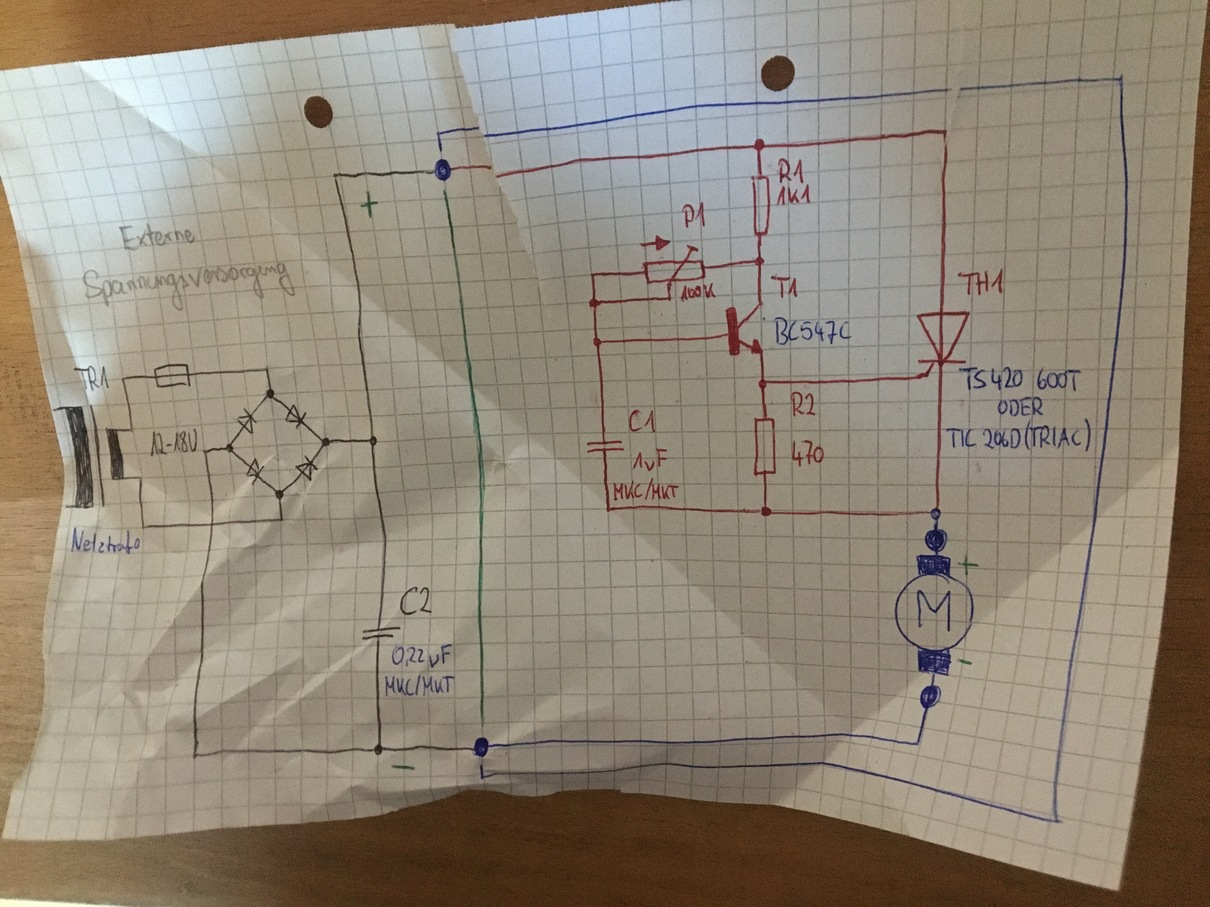capacitor.unpolarized: (584, 438, 627, 459), (360, 622, 402, 643)
crossover: (207, 519, 218, 530)
diode: (294, 453, 320, 482), (235, 406, 259, 435), (284, 403, 309, 430), (245, 457, 265, 486)
fuse: (153, 362, 193, 389)
junction: (927, 503, 945, 522), (936, 125, 952, 146), (372, 741, 390, 757), (751, 253, 767, 269), (752, 136, 767, 153), (759, 501, 773, 519), (588, 296, 602, 311), (757, 376, 770, 392), (591, 335, 604, 349), (189, 748, 202, 762), (367, 434, 379, 448), (663, 292, 677, 304), (320, 436, 332, 448), (265, 387, 276, 400), (224, 442, 235, 454), (274, 488, 285, 500), (604, 503, 615, 515), (912, 737, 923, 748), (330, 170, 340, 182), (136, 473, 145, 483), (589, 269, 598, 279), (200, 447, 209, 456), (262, 365, 271, 374), (127, 425, 136, 433), (119, 374, 127, 383), (139, 523, 147, 532), (277, 516, 285, 523)
motor: (892, 553, 976, 678)
resistor: (752, 415, 779, 477), (749, 173, 773, 239)
resistor.adjustable: (640, 243, 707, 288)
terminal: (62, 502, 70, 513), (50, 406, 57, 414)
text: (81, 260, 297, 312), (944, 416, 1093, 454), (959, 366, 1082, 393), (773, 314, 854, 347), (117, 219, 198, 252), (70, 525, 142, 556), (383, 672, 455, 699), (390, 641, 453, 670), (611, 476, 680, 502), (149, 426, 199, 459), (956, 267, 1006, 298), (995, 394, 1046, 419), (398, 584, 435, 617), (790, 437, 827, 469), (72, 364, 112, 393), (631, 446, 669, 473), (774, 183, 814, 207), (788, 389, 819, 419), (679, 200, 710, 230), (776, 156, 806, 185), (627, 407, 658, 435), (679, 282, 718, 303), (769, 273, 800, 299)
thyristor: (913, 309, 972, 381)
transformer: (62, 401, 127, 513)
transistor: (723, 301, 768, 359)
